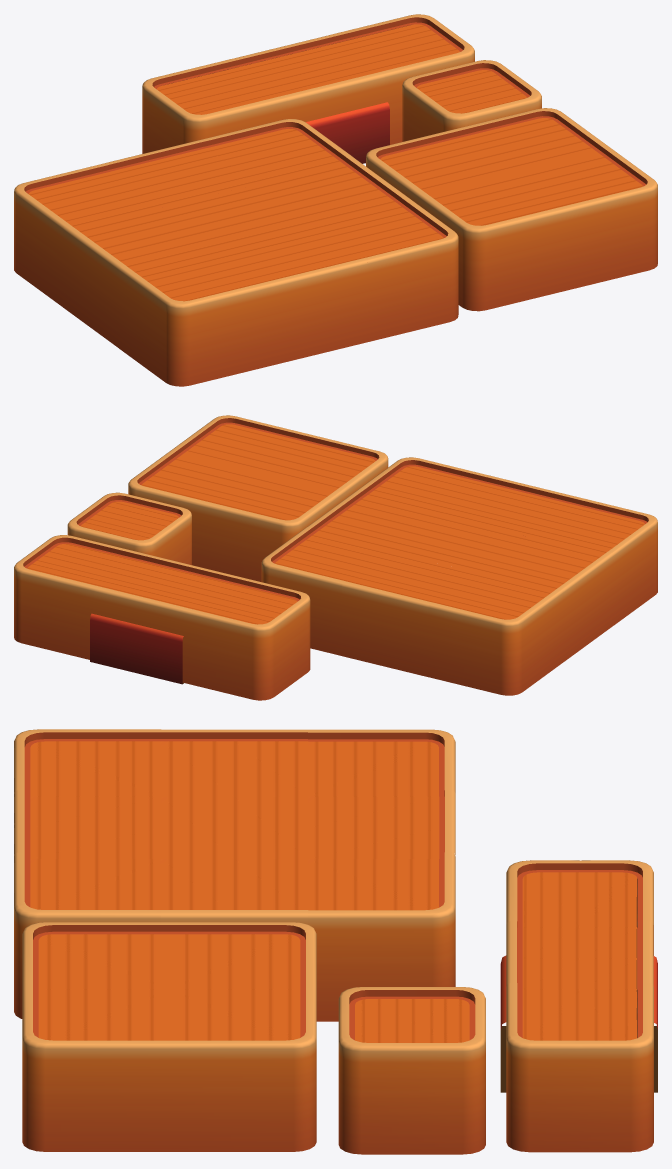
Rendered from Crate.fbx.
3 views of the same model, one above another, from view 1: azimuth 30°, elevation 25°; view 2: azimuth 150°, elevation 25°; view 3: azimuth 270°, elevation 25° (orthographic). The views are drawn at different scales.
Parts seen in each view (by area): view 1: Box_1_corner7, Box_1_corner1, Box_0_corner2, Box_1_corner8, Box_1_corner4, Box_0_corner, Box_1_corner6, Box_3_cornerer, Box_Line, Crate_Small, Box_3_cornerer1, Box_1_corner (+6 smaller); view 2: Box_1_corner6, Box_3_cornerer, Box_0_corner3, Box_3_cornerer1, Box_1_corner, Box_0_corner, Box_1_corner7, Box_1_corner9, Box_Line, Crate_Small, Box_1_corner5, Box_1_corner1 (+6 smaller); view 3: Crate_Small, Box_3_cornerer1, Box_1_corner4, Box_1_corner5, Box_1_corner9, Box_1_corner8, Box_0_corner, Box_1_corner, Box_1_corner1, Box_1_corner6, Box_1_corner7, Box_3_cornerer (+6 smaller).
Part boxes in pixels (box(x1,y1,x2,y2)): Box_1_corner7: box(118, 249, 271, 386); Box_1_corner1: box(415, 173, 567, 311); Box_0_corner2: box(215, 225, 368, 365); Box_1_corner8: box(313, 197, 458, 341); Box_1_corner4: box(512, 145, 657, 290); Box_0_corner: box(63, 208, 215, 347); Box_1_corner6: box(14, 163, 159, 307); Box_3_cornerer: box(142, 58, 287, 153); Box_Line: box(234, 35, 384, 122); Crate_Small: box(402, 60, 541, 141); Box_3_cornerer1: box(330, 14, 474, 144); Box_1_corner: box(366, 128, 511, 202); Box_1_corner6: box(428, 573, 564, 695); Box_3_cornerer: box(180, 574, 310, 700); Box_0_corner3: box(342, 552, 477, 676); Box_3_cornerer1: box(14, 535, 142, 659); Box_1_corner: box(208, 474, 344, 581); Box_0_corner: box(478, 536, 613, 661); Box_1_corner7: box(528, 496, 657, 625); Box_1_corner9: box(261, 527, 391, 655); Box_Line: box(94, 553, 228, 634); Crate_Small: box(67, 492, 191, 564); Box_1_corner5: box(128, 448, 257, 569); Box_1_corner1: box(258, 434, 388, 499); Crate_Small: box(338, 987, 485, 1154); Box_3_cornerer1: box(506, 983, 653, 1152); Box_1_corner4: box(22, 983, 169, 1151); Box_1_corner5: box(169, 983, 316, 1151); Box_1_corner9: box(308, 852, 455, 1021); Box_1_corner8: box(14, 852, 161, 1018); Box_0_corner: box(160, 729, 308, 796); Box_1_corner: box(169, 922, 316, 989); Box_1_corner1: box(22, 922, 169, 989); Box_1_corner6: box(308, 729, 455, 796); Box_1_corner7: box(14, 729, 160, 796); Box_3_cornerer: box(506, 860, 653, 955).
Size of the model in its own units: 535 by 84.05 by 456.
Materials: 1 (1 with a texture image).
